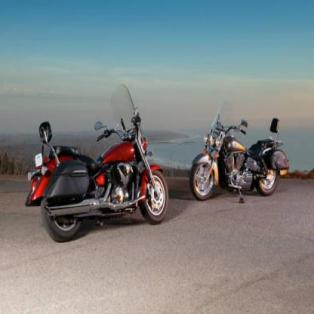Motocicleta: (25, 86, 170, 244), (188, 89, 293, 206)
